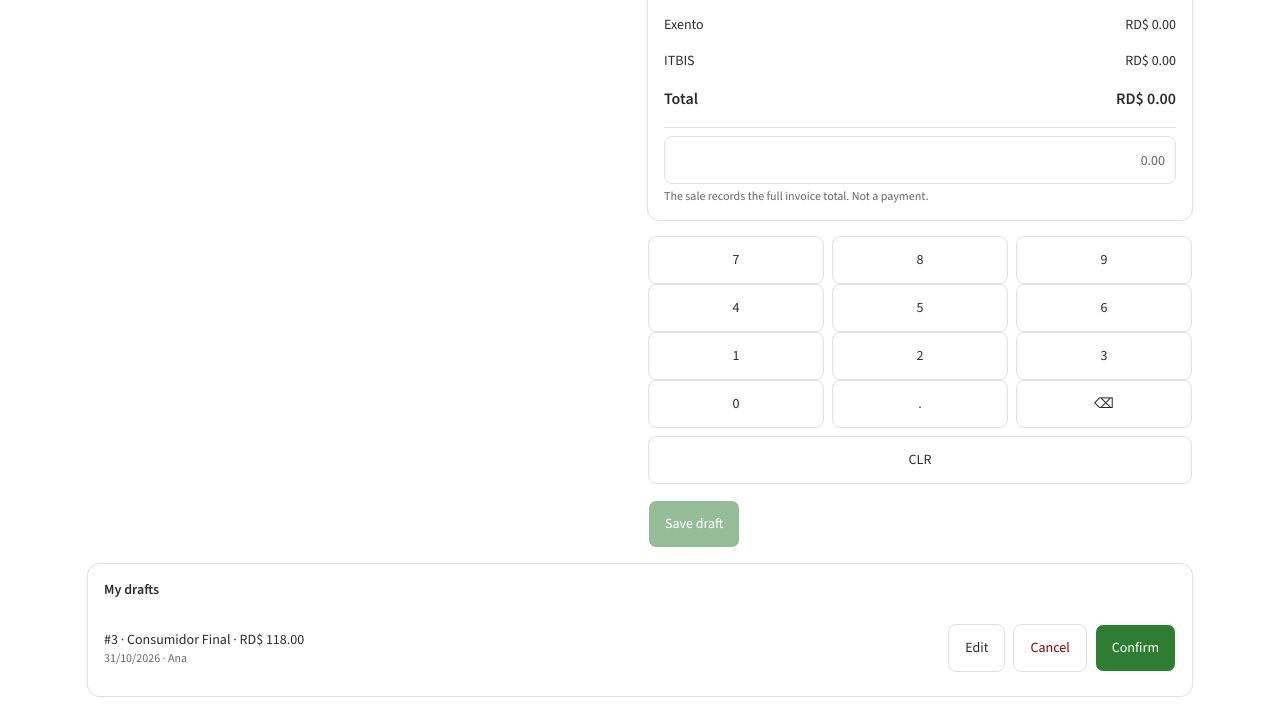
Test case: POS confirm control (R-V14 5c slice) › shows the NCF_UMBRAL_90 warning banner alongside the success
The width and height of the screenshot is (1280, 718).
(page scrolled)
Click the button with aria-label "Confirm draft 3".
click(1135, 648)  # box [1095, 624, 1176, 672]
(page scrolled)
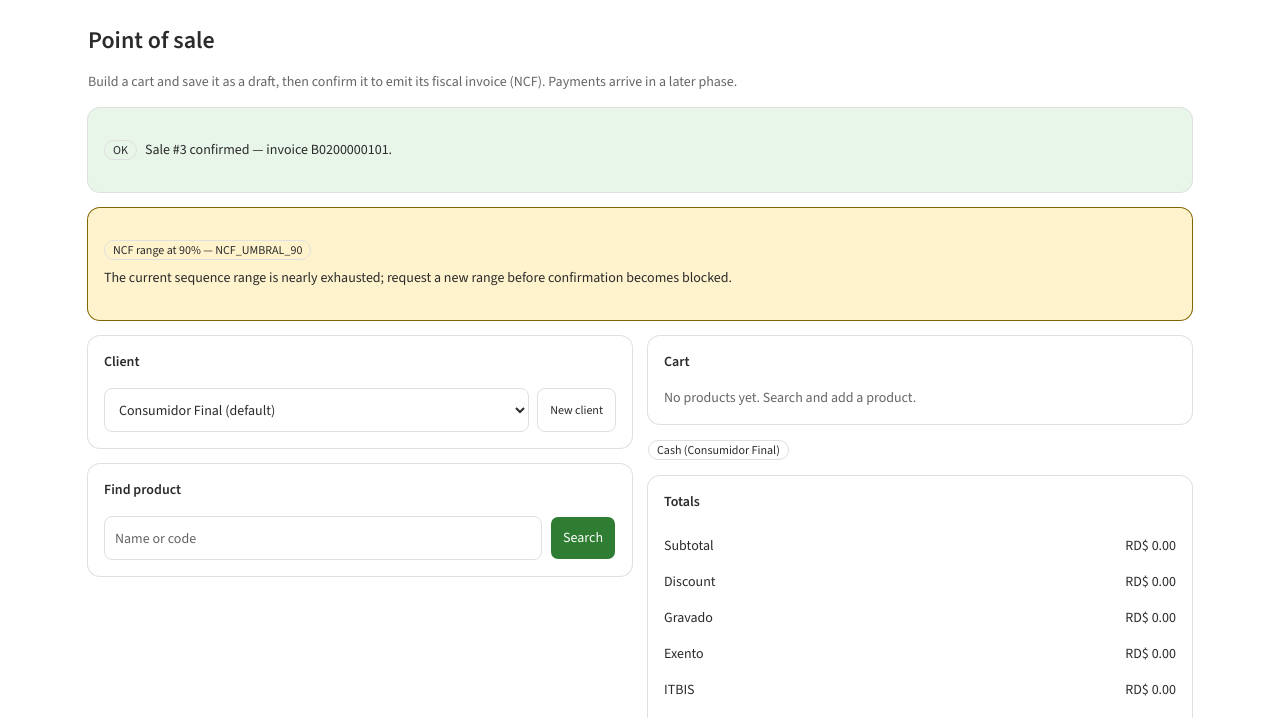
Now the message "NCF range" shows "90%", box [113, 242, 215, 258]
Now the message "NCF range" shows "NCF_UMBRAL_90", box [215, 242, 302, 258]
Now the text "Sale #3 confirmed — invoice B0200000101." is shown, box [145, 140, 392, 160]
